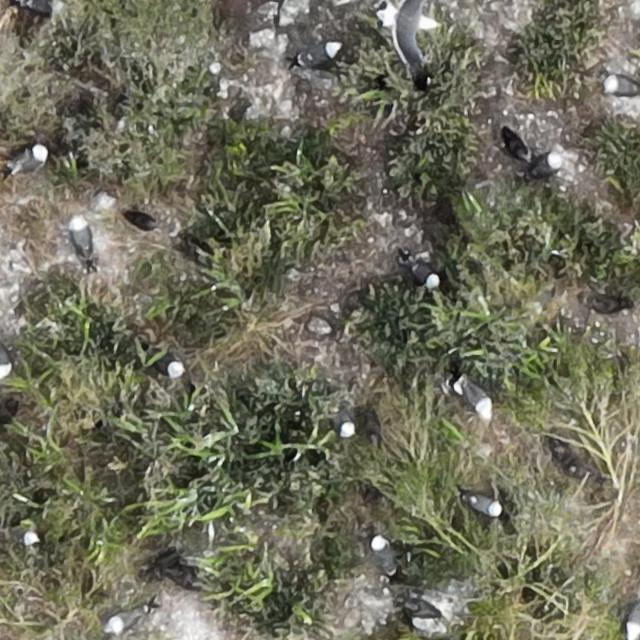F: (383, 0, 436, 70)
umineko: (146, 346, 184, 379), (462, 382, 492, 418), (298, 44, 337, 66), (11, 148, 45, 172), (408, 260, 438, 286), (466, 497, 501, 518), (371, 537, 392, 570), (108, 610, 141, 630), (533, 154, 562, 175), (70, 221, 88, 254), (606, 77, 636, 96), (8, 529, 39, 546), (20, 0, 54, 13), (336, 412, 353, 438), (0, 343, 9, 375)
